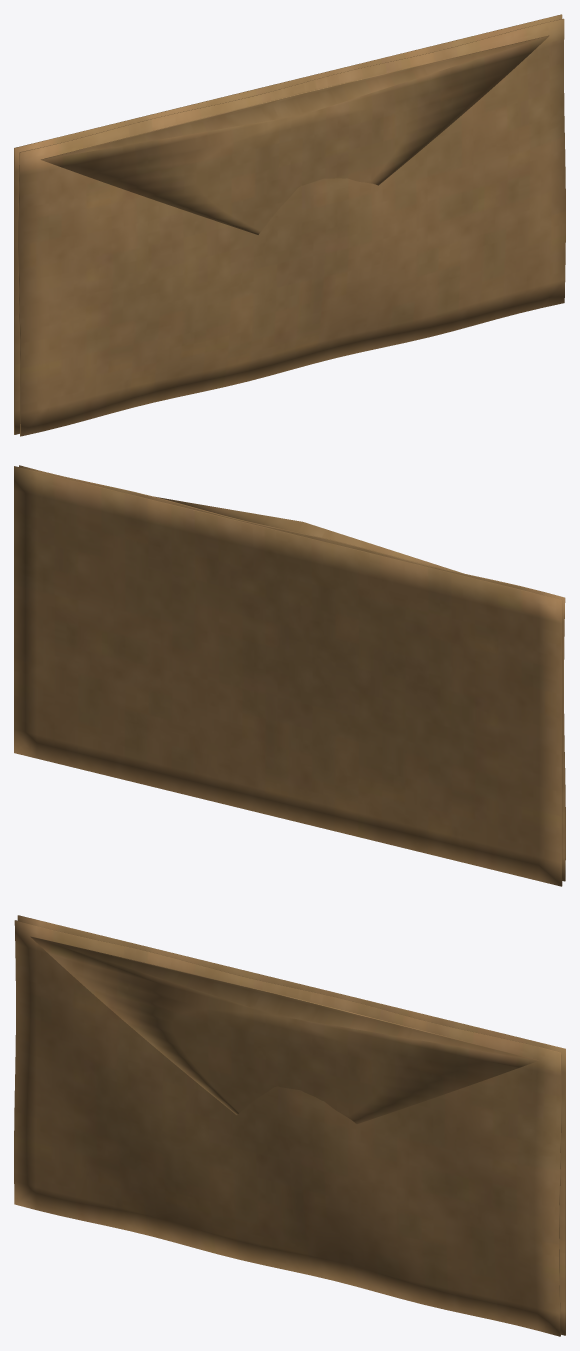
The picture shows the model from 3 angles, top to bottom: view 1: azimuth 30°, elevation 25°; view 2: azimuth 150°, elevation 25°; view 3: azimuth 330°, elevation 25°; orthographic projection.
Visible parts, largest first — view 1: umschlag; view 2: umschlag; view 3: umschlag.
Boxes of the visible parts, bbox=[...] form: umschlag: bbox=[14, 14, 565, 436]; umschlag: bbox=[14, 465, 565, 886]; umschlag: bbox=[14, 915, 565, 1336].
Bounding box in the file's own units: 0.22 × 0.11 × 0.011.
1 material, 1 textured.
